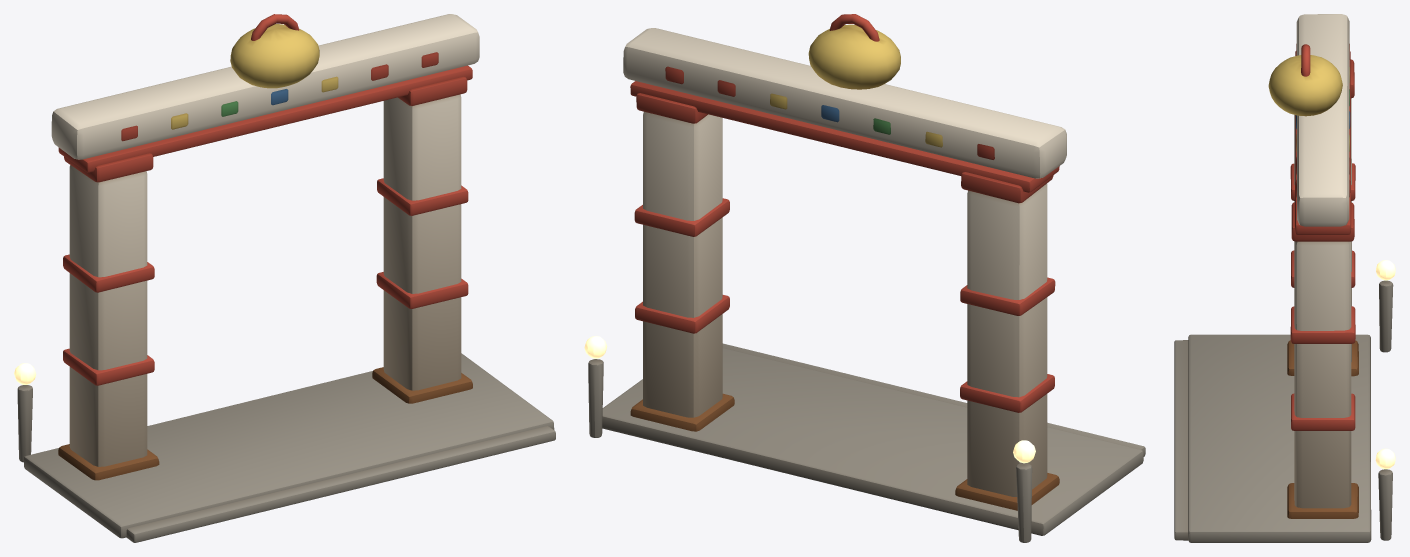
3 views of the same model, side by side, from view 1: azimuth 30°, elevation 25°; view 2: azimuth 150°, elevation 25°; view 3: azimuth 270°, elevation 25° (orthographic). The views are drawn at different scales.
Parts seen in each view (by area): view 1: gate_e3454c44; view 2: gate_e3454c44; view 3: gate_e3454c44.
Boxes of the visible parts, left/top/right/bottom form: gate_e3454c44: left=14, top=14, right=555, bottom=542; gate_e3454c44: left=584, top=14, right=1145, bottom=542; gate_e3454c44: left=1174, top=14, right=1395, bottom=542.
Bounding box in the file's own units: 5.39 × 5.06 × 2.55.
